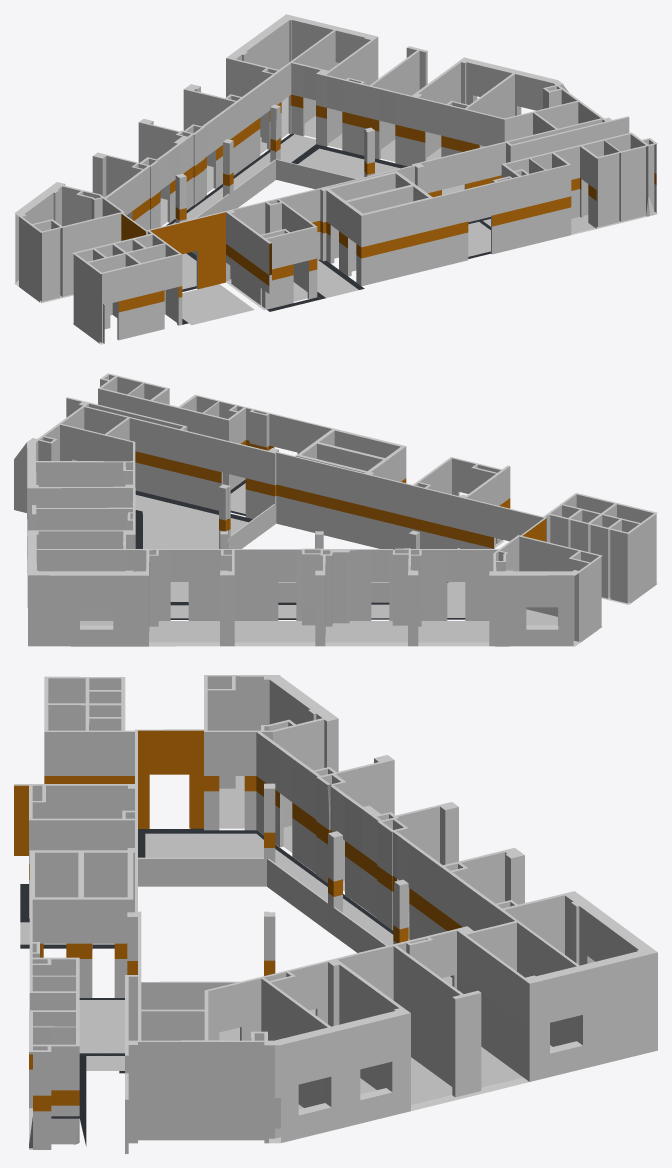
Rendered from HallPart_3dFloor.fbx.
3 views of the same model, one above another, from view 1: azimuth 30°, elevation 25°; view 2: azimuth 150°, elevation 25°; view 3: azimuth 270°, elevation 25° (orthographic). The views are drawn at different scales.
Visible parts, largest first — view 1: Plane; view 2: Plane; view 3: Plane.
Part boxes in pixels (bbox=[...]): Plane: bbox=[14, 14, 657, 344]; Plane: bbox=[14, 373, 657, 646]; Plane: bbox=[14, 675, 657, 1153].
Bounding box in the file's own units: 3496 × 421 × 2499.
